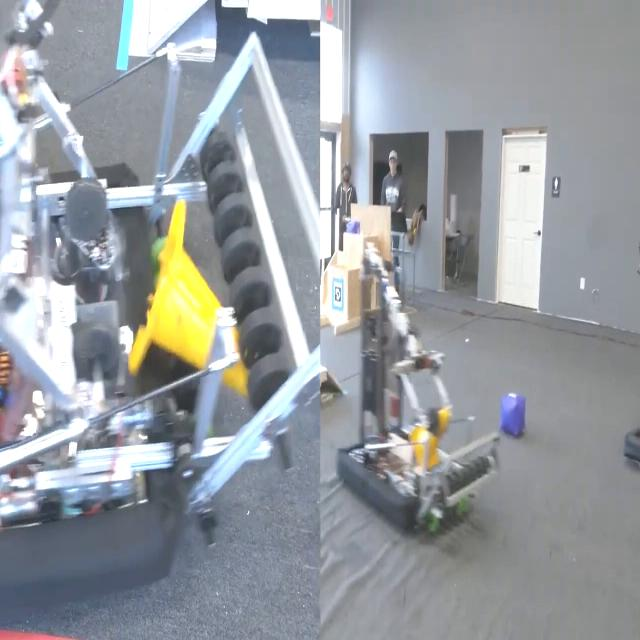frc_cone: (118, 231, 289, 398), (404, 392, 455, 474)
frc_cube: (499, 387, 530, 440)
